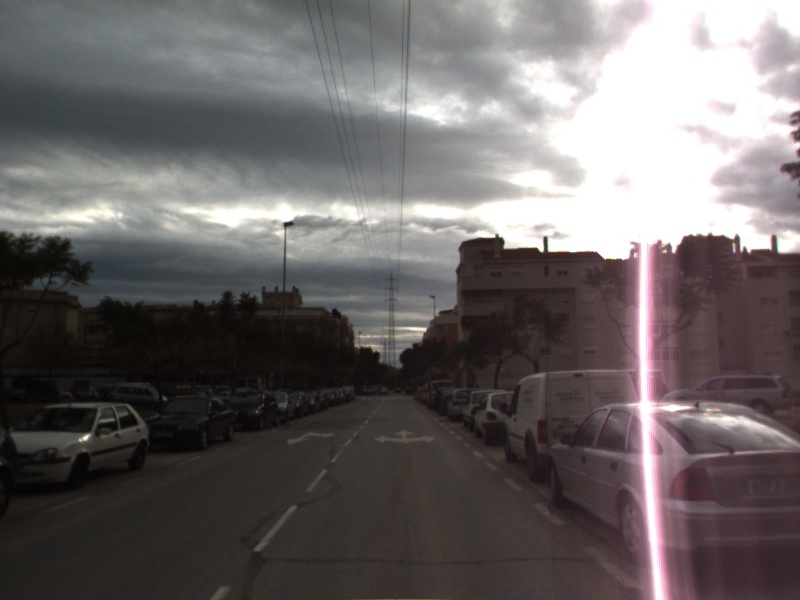STRAIGHT_LEFT_RIGHT: (372, 428, 438, 446)
